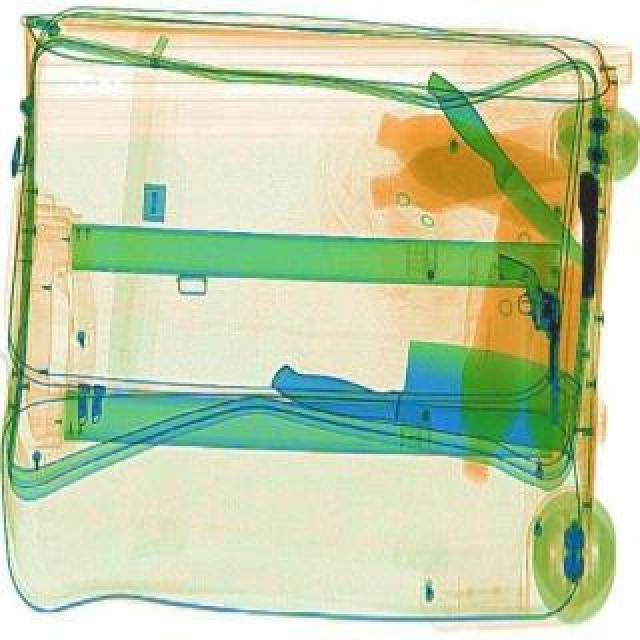gun: (496, 254, 570, 428), (578, 174, 604, 296)
knife: (268, 320, 584, 456), (414, 64, 606, 284)
